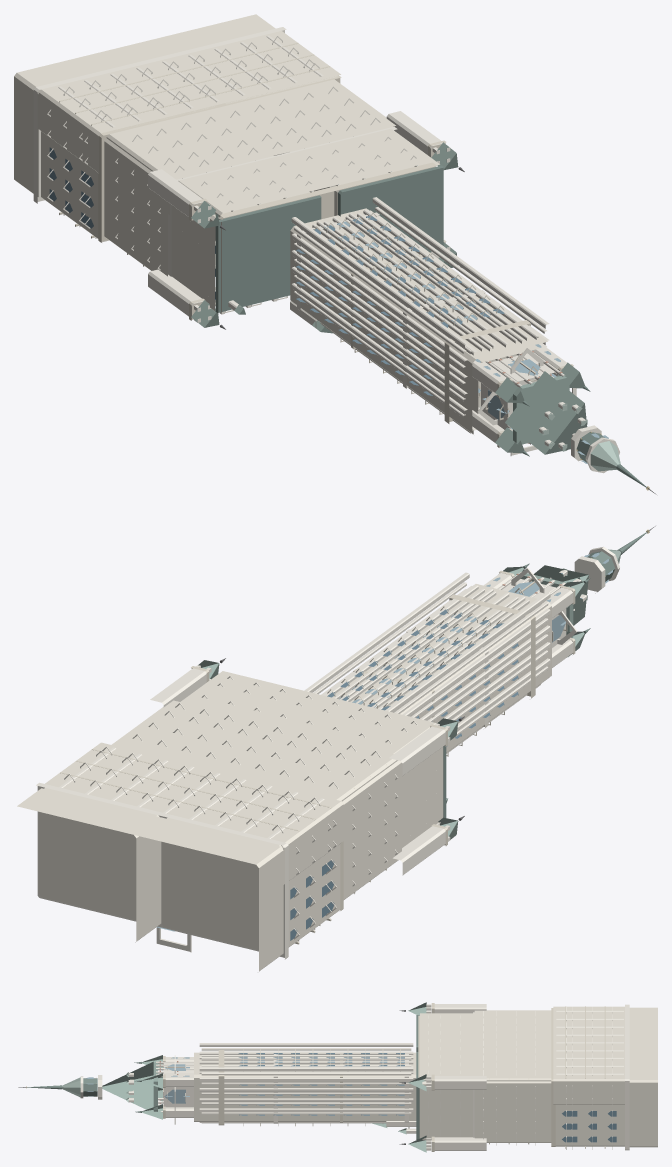
The model's file is woolworth-building-v2.glb.
3 renders of one model, top to bottom at view 1: azimuth 30°, elevation 25°; view 2: azimuth 150°, elevation 25°; view 3: azimuth 270°, elevation 25°, orthographic. The views are drawn at different scales.
Visible parts, largest first — view 1: stone, stone_hi, copper_dark, stone_mid, copper, glass, glass_hi, copper_hi; view 2: stone, stone_hi, stone_mid, glass, copper, glass_hi, copper_dark; view 3: stone, stone_hi, copper, stone_mid, glass, copper_dark, glass_hi, copper_hi.
Boxes of the visible parts, bbox=[...] form: stone: bbox=[14, 14, 547, 434]; stone_hi: bbox=[33, 27, 619, 473]; copper_dark: bbox=[215, 165, 646, 487]; stone_mid: bbox=[59, 42, 573, 447]; copper: bbox=[191, 142, 587, 454]; glass: bbox=[49, 147, 504, 395]; glass_hi: bbox=[337, 221, 608, 463]; copper_hi: bbox=[542, 403, 620, 471]; stone: bbox=[17, 584, 551, 971]; stone_hi: bbox=[36, 546, 619, 959]; stone_mid: bbox=[60, 570, 575, 944]; glass: bbox=[290, 573, 582, 940]; copper: bbox=[198, 565, 588, 839]; glass_hi: bbox=[156, 552, 612, 931]; copper_dark: bbox=[443, 531, 647, 817]; stone: bbox=[194, 1006, 657, 1147]; stone_hi: bbox=[80, 1004, 629, 1150]; copper: bbox=[102, 1002, 426, 1152]; stone_mid: bbox=[163, 1003, 605, 1151]; glass: bbox=[238, 1053, 616, 1142]; copper_dark: bbox=[27, 1015, 419, 1139]; glass_hi: bbox=[86, 1057, 404, 1103]; copper_hi: bbox=[62, 1072, 128, 1102].
Size of the model in its own units: 86.77 by 46.6 by 295.
